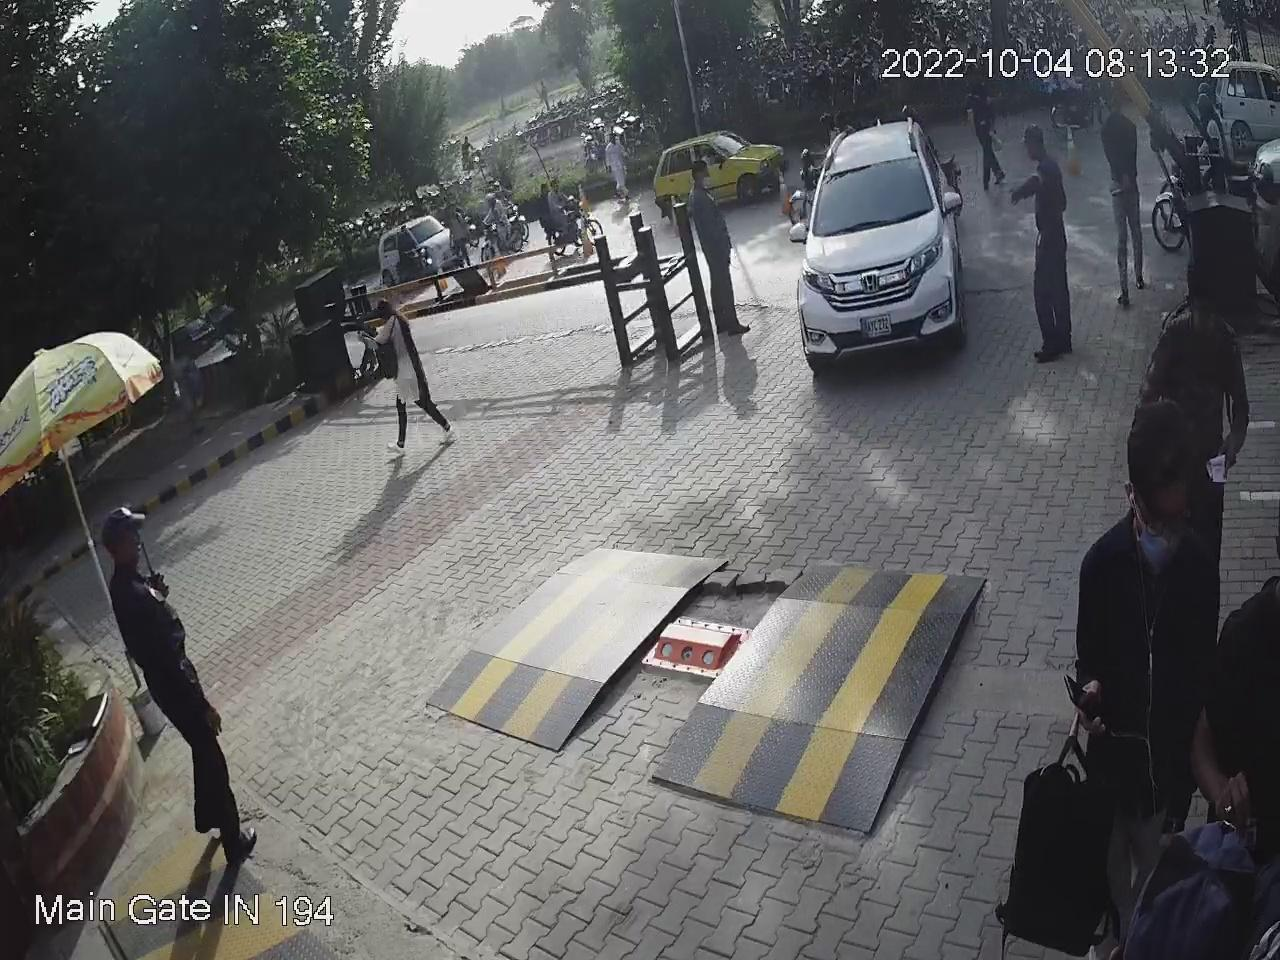windshield: (808, 135, 940, 242)
